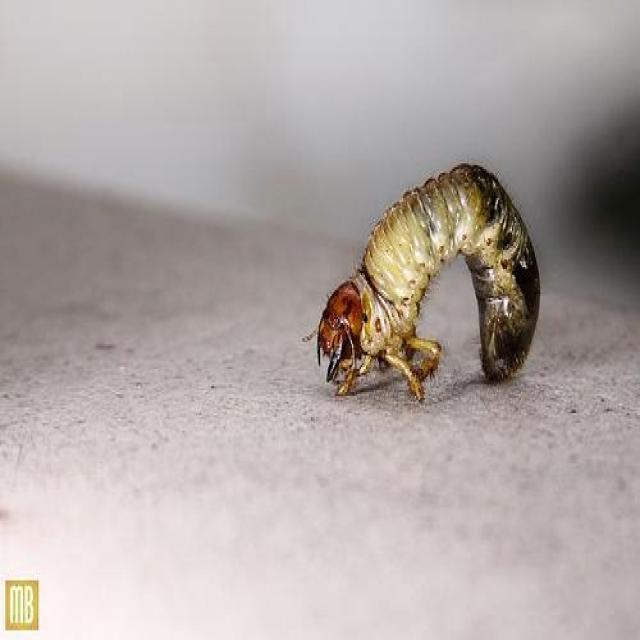grub: (316, 160, 545, 400)
